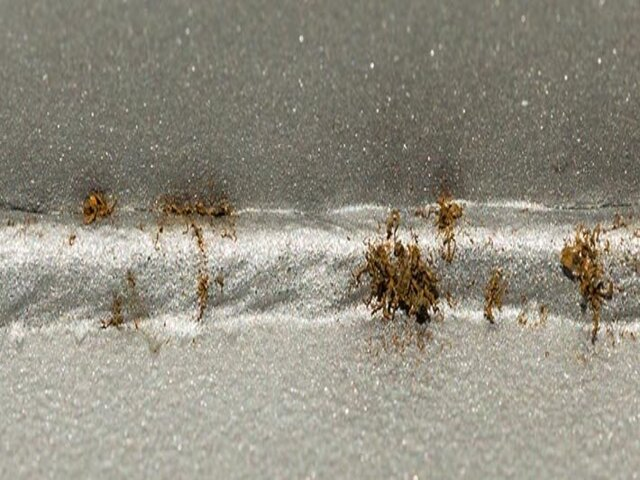Low: (366, 202, 465, 328), (84, 190, 237, 236), (559, 230, 618, 318)
